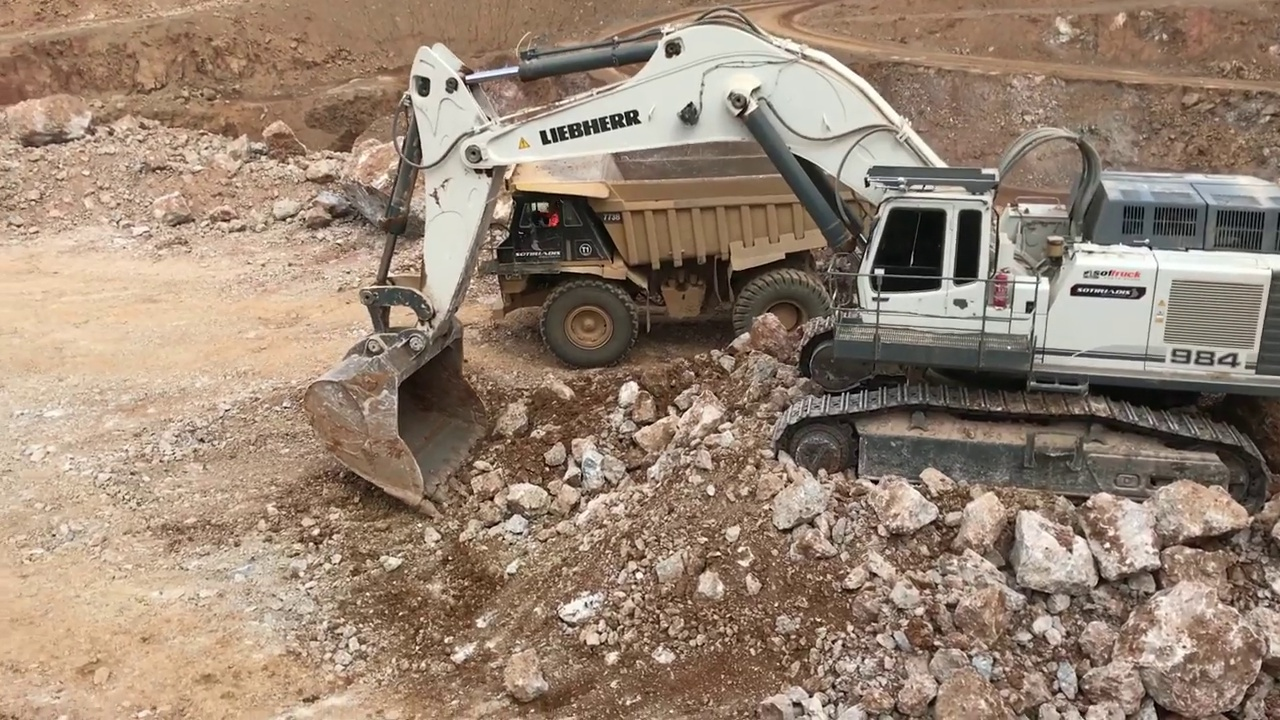dumper: (488, 151, 883, 367)
excavator: (305, 2, 1280, 532)
